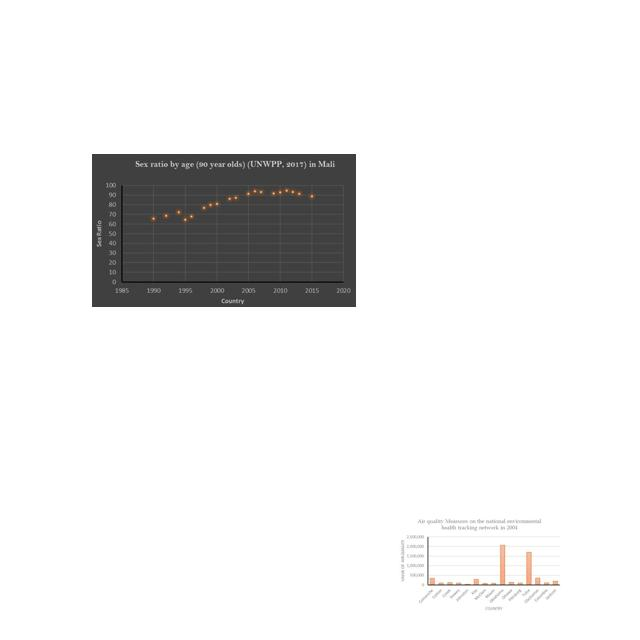Graph: (92, 154, 356, 307), (396, 515, 562, 612)
